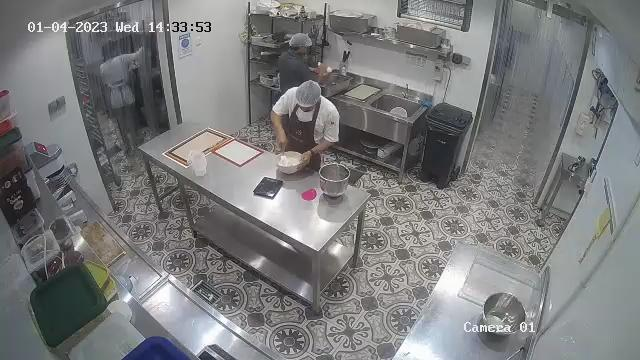apron: (279, 102, 330, 169)
